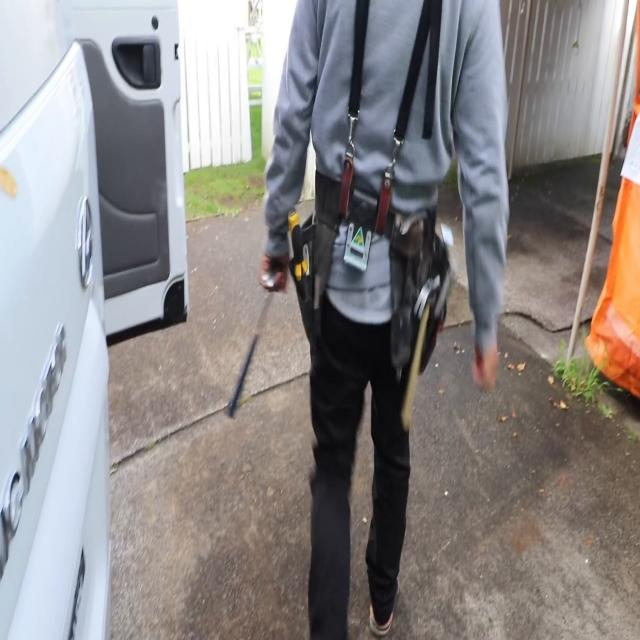hammer: (228, 268, 282, 416), (402, 276, 441, 428)
